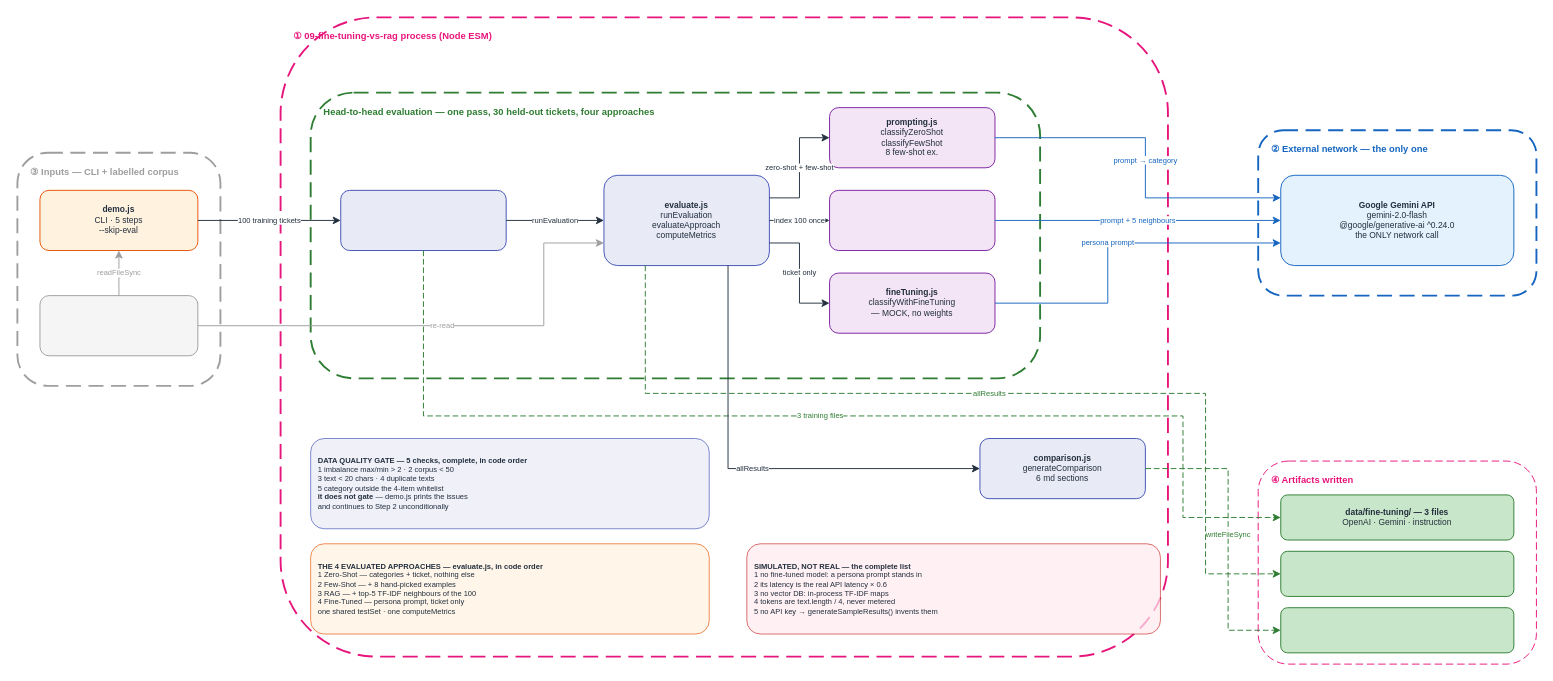
The diagram is 1553 pixels wide and 681 high, and some of its shapes have lost their labels. The shapes that lost their labels are listed below. From the top down, each one's centre as x and y in pixels, then its label:
(423,220): fineTuning.js validate writeTrainingFiles
(912,220): rag.js SimpleVectorStore TF-IDF · cosine retrieve top-5
(118,325): tickets.json 100 test-set.json 30 4 categories
(1397,573): evaluation-results.json evaluate.js — not committed
(1397,630): COMPARISON.md the deliverable · demo.js
